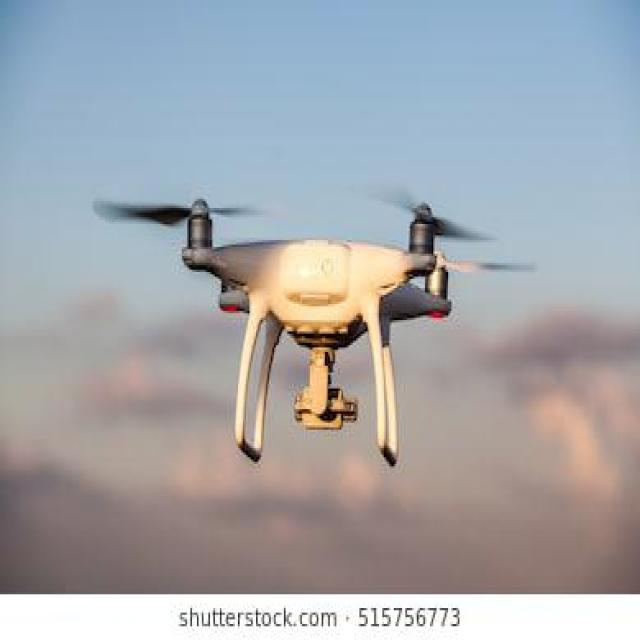drone: (68, 114, 564, 512)
